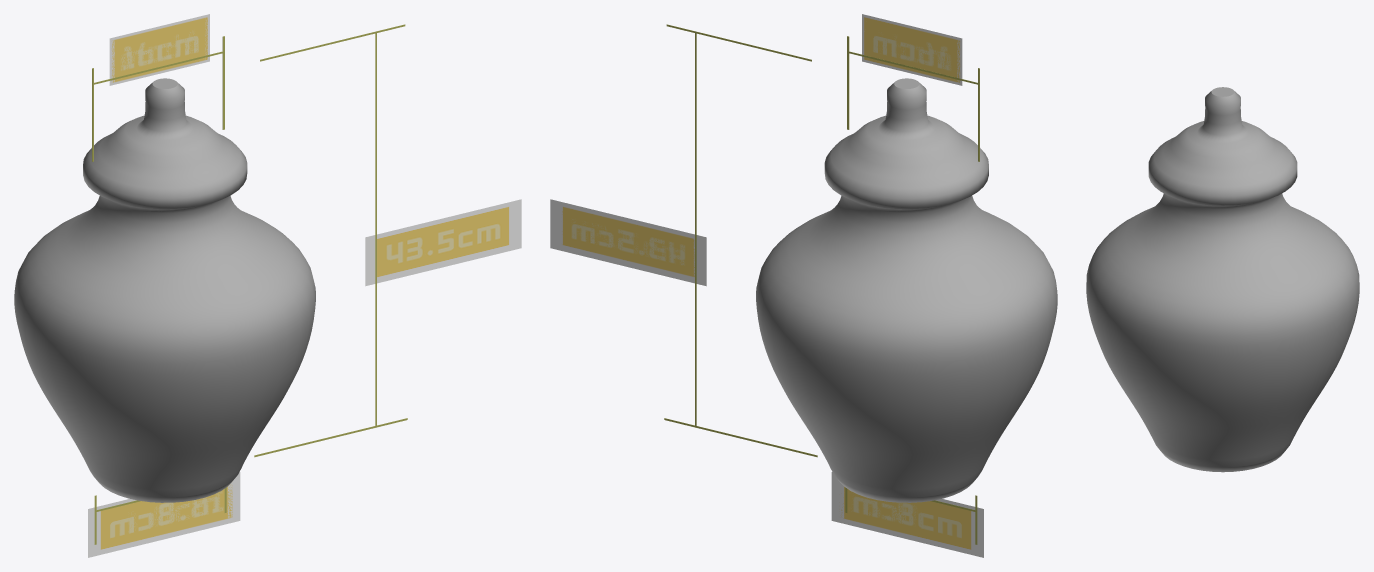
Rendered from wenwu1.fbx.
3 views of the same model, side by side, from view 1: azimuth 30°, elevation 25°; view 2: azimuth 150°, elevation 25°; view 3: azimuth 270°, elevation 25° (orthographic). The views are drawn at different scales.
Parts seen in each view (by area): view 1: wenwu, cicun, xian; view 2: wenwu, cicun, xian; view 3: wenwu.
Part boxes in pixels (bbox=[...]): wenwu: bbox=[14, 78, 315, 502]; cicun: bbox=[88, 14, 521, 557]; xian: bbox=[92, 24, 407, 544]; wenwu: bbox=[756, 78, 1057, 502]; cicun: bbox=[550, 14, 983, 557]; xian: bbox=[664, 24, 979, 544]; wenwu: bbox=[1086, 87, 1359, 472].
Bounding box in the file's own units: 44.45 × 44.81 × 23.77.
